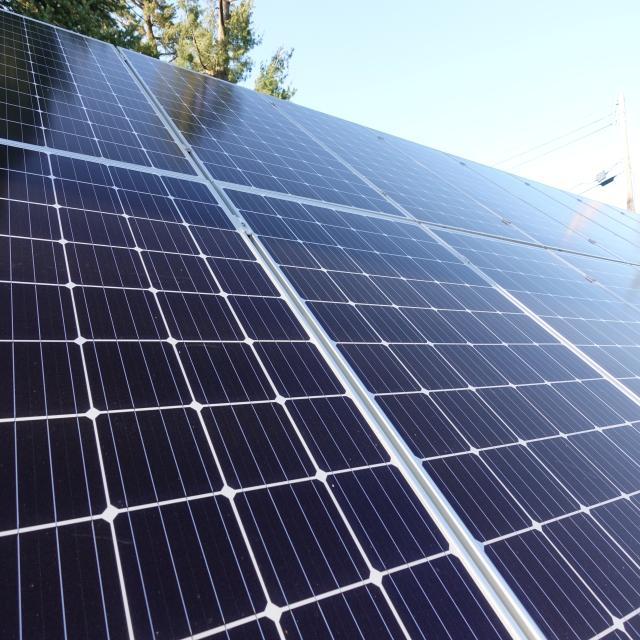clean-solar-panel: (0, 13, 640, 638)
